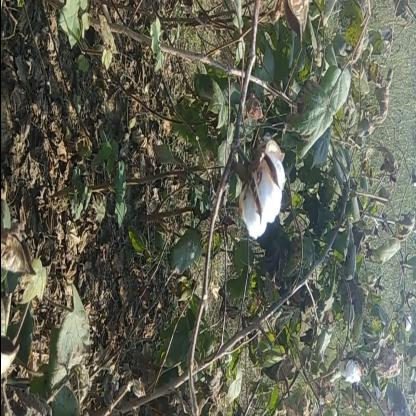cotton_ready: (213, 124, 289, 245)
